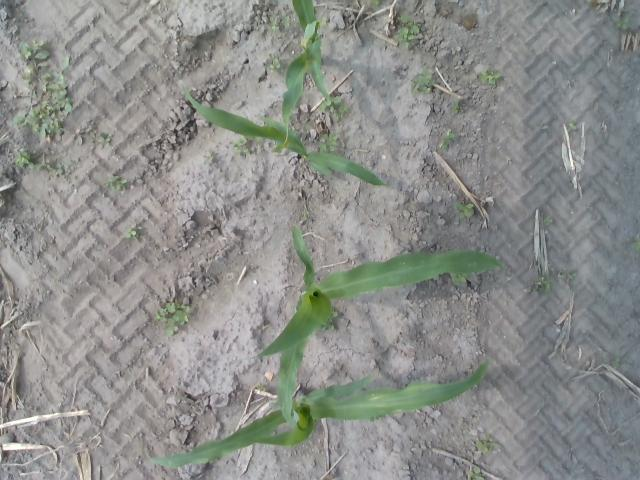Maize: (252, 225, 504, 428), (146, 360, 489, 468), (185, 89, 386, 186), (276, 0, 336, 151)
Weeds: (21, 38, 73, 113), (20, 103, 64, 142), (59, 126, 110, 146), (396, 16, 418, 47), (30, 162, 66, 176), (412, 70, 430, 92), (320, 98, 346, 112), (318, 134, 338, 151), (533, 277, 551, 294), (456, 203, 473, 220), (16, 153, 34, 169), (479, 70, 502, 82), (108, 175, 126, 189), (233, 139, 251, 153), (163, 318, 177, 335), (174, 310, 188, 325), (125, 224, 137, 240), (476, 442, 490, 455), (442, 136, 453, 152), (467, 469, 482, 480), (616, 20, 628, 30), (157, 310, 167, 322), (270, 59, 280, 70), (455, 276, 467, 285), (454, 107, 464, 116), (631, 241, 640, 251), (567, 273, 576, 282), (166, 302, 174, 312), (322, 326, 335, 331), (544, 218, 554, 224), (569, 123, 577, 130), (374, 0, 382, 6)
